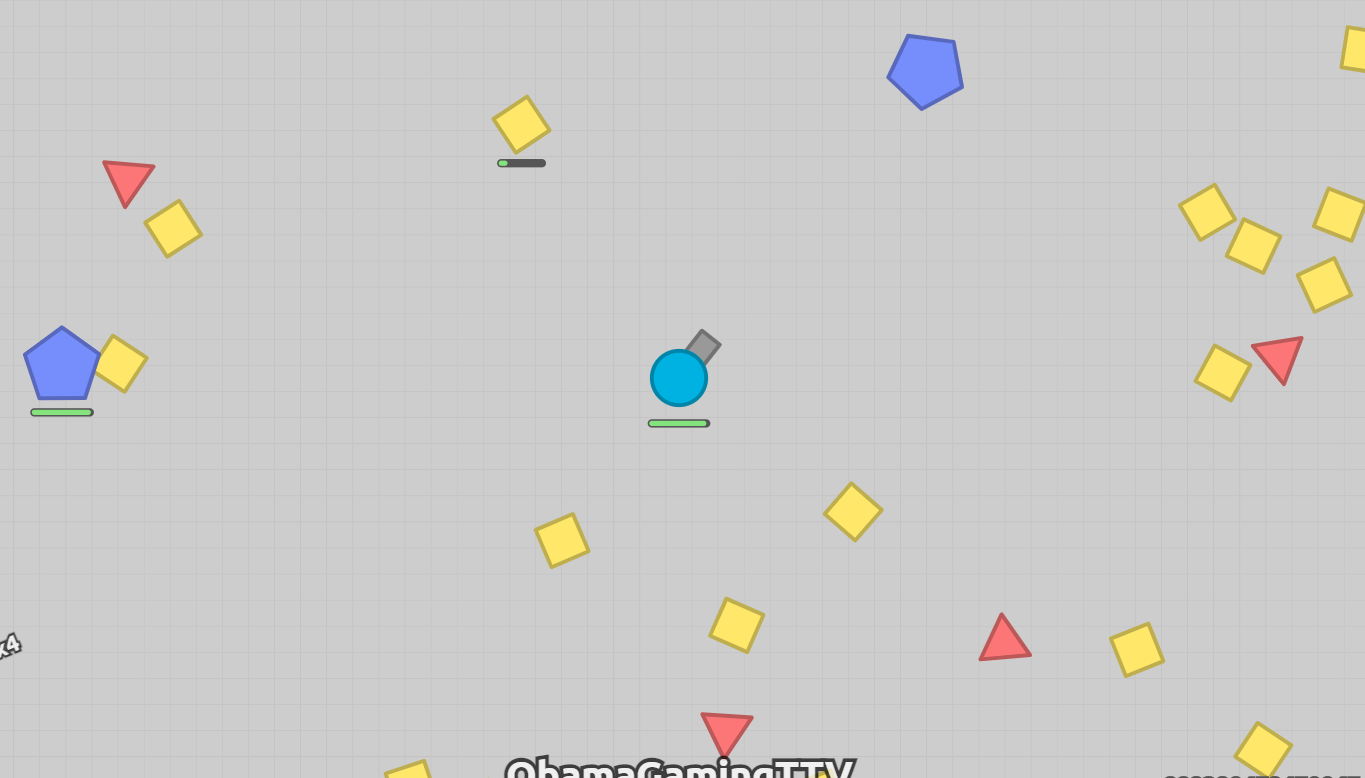Pentagon: (15, 323, 102, 403), (884, 32, 966, 110)
Player: (642, 325, 723, 410)
Square: (819, 479, 886, 545), (1187, 340, 1254, 405), (141, 197, 204, 262), (490, 90, 553, 155), (1175, 178, 1237, 243), (92, 331, 152, 396), (704, 594, 767, 655), (1230, 718, 1294, 778), (1293, 254, 1356, 314), (532, 509, 594, 569), (1222, 218, 1285, 276), (1107, 620, 1167, 678), (1309, 185, 1365, 242), (1336, 24, 1365, 73), (382, 758, 434, 778)
Triangle: (973, 606, 1034, 664), (97, 156, 158, 213), (1250, 330, 1303, 389), (697, 708, 756, 755)
